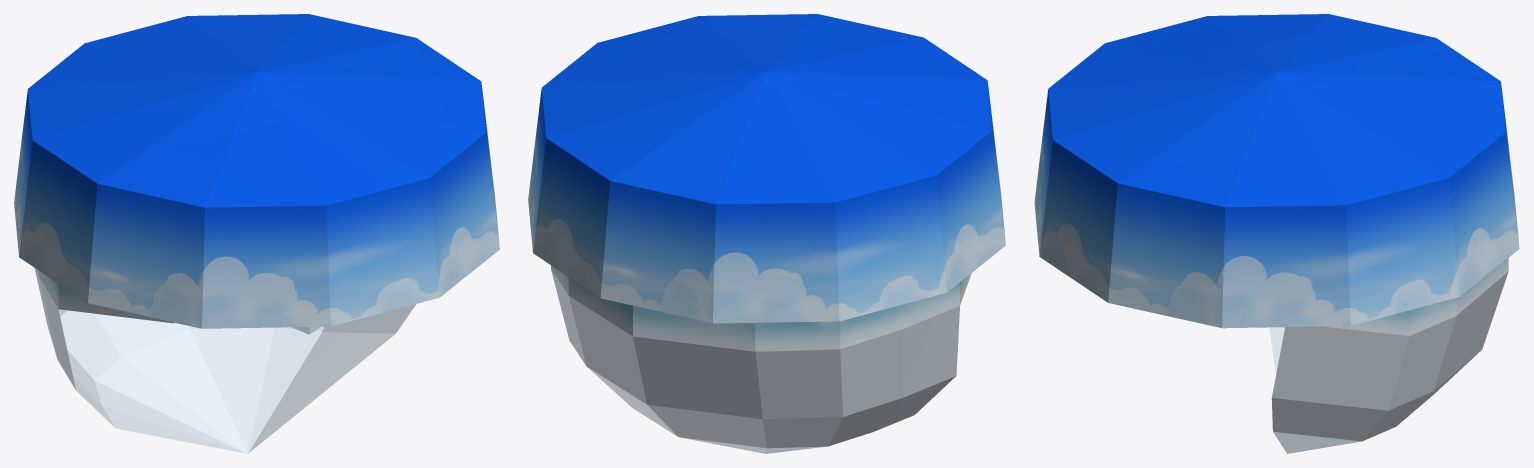
Rendered from snow.fbx.
The picture shows the model from 3 angles, left to right: view 1: azimuth 30°, elevation 25°; view 2: azimuth 150°, elevation 25°; view 3: azimuth 270°, elevation 25°; orthographic projection.
Parts seen in each view (by area): view 1: level6_sky, level6_shan_bj05, level6_shan_bj09; view 2: level6_sky, level6_shan_bj05, level6_shan_bj01, level6_shan_bj03; view 3: level6_sky, level6_shan_bj05, level6_shan_bj07, level6_shan_bj01.
Boxes of the visible parts, x1,y1,x2,y2 form: level6_sky: (14, 14, 499, 328); level6_shan_bj05: (34, 268, 416, 453); level6_shan_bj09: (58, 284, 320, 334); level6_sky: (528, 14, 1005, 323); level6_shan_bj05: (551, 269, 959, 453); level6_shan_bj01: (568, 277, 840, 351); level6_shan_bj03: (840, 282, 959, 349); level6_sky: (1034, 14, 1519, 328); level6_shan_bj05: (1269, 271, 1508, 453); level6_shan_bj07: (1325, 298, 1456, 335); level6_shan_bj01: (1456, 258, 1508, 315).
Bounding box in the file's own units: 11701 × 10213 × 11701.
